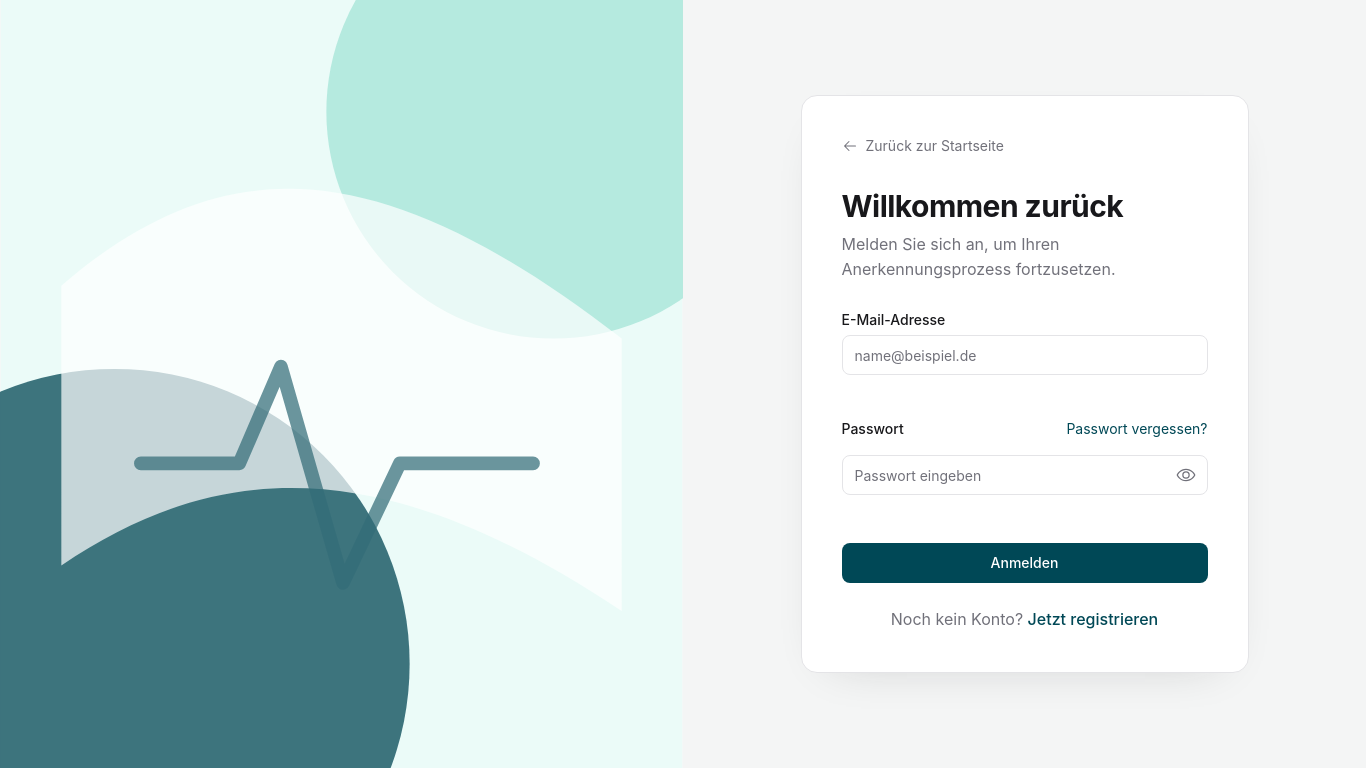
it: login shows formatted failures and default public links
Type "ada@example.com" into the field with test id "login-email-input" at [1024, 355], box [842,335,1208,375]
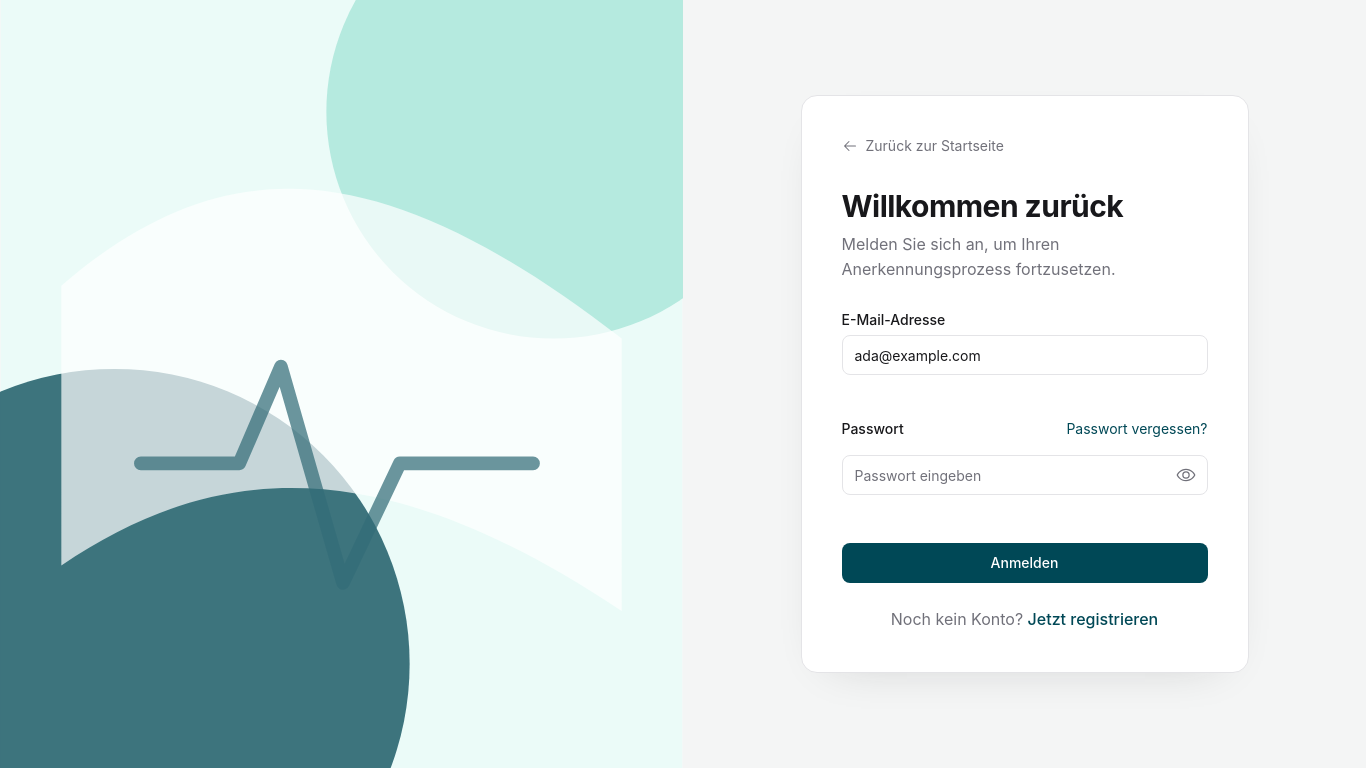
Type "secret" into the password field with test id "login-password-input" at [1024, 475], box [842,455,1208,495]
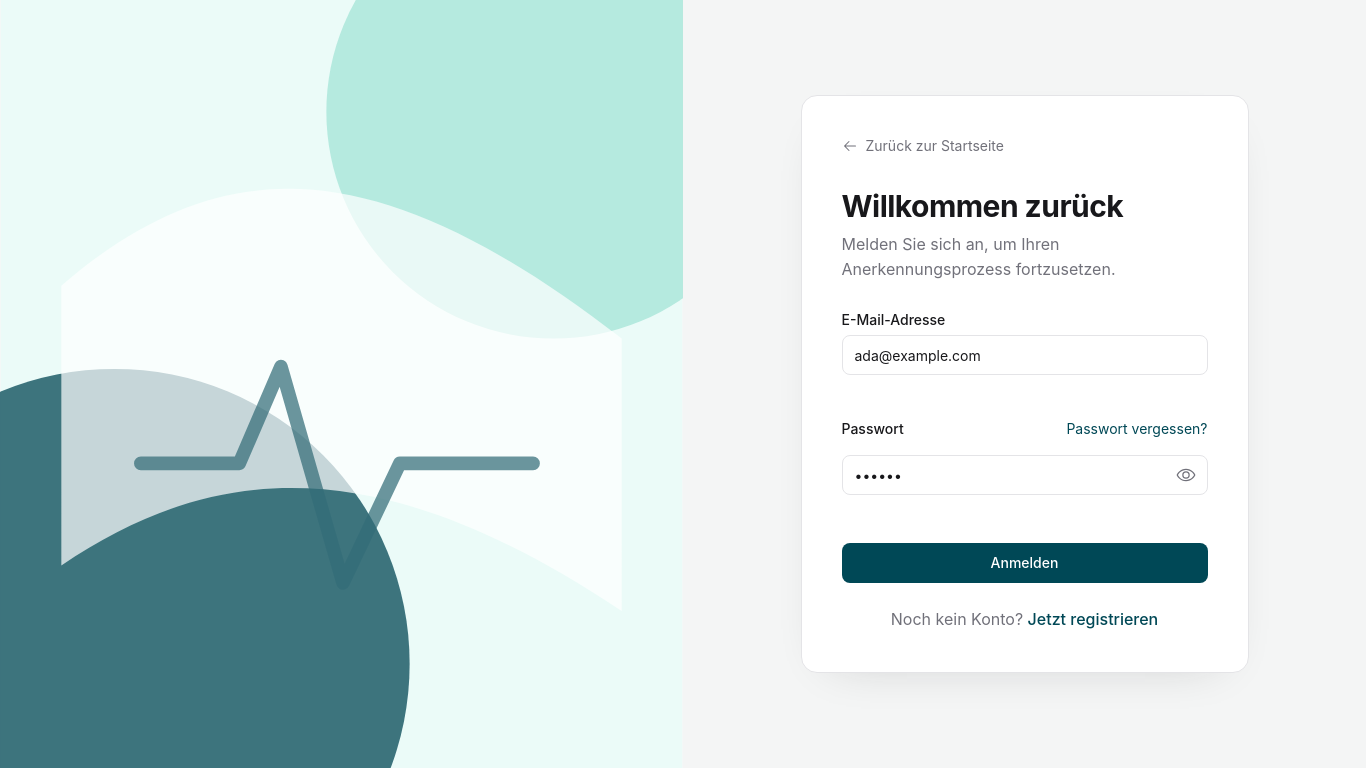
Submit the form with test id "login-submit-btn", box [842,313,1208,583]
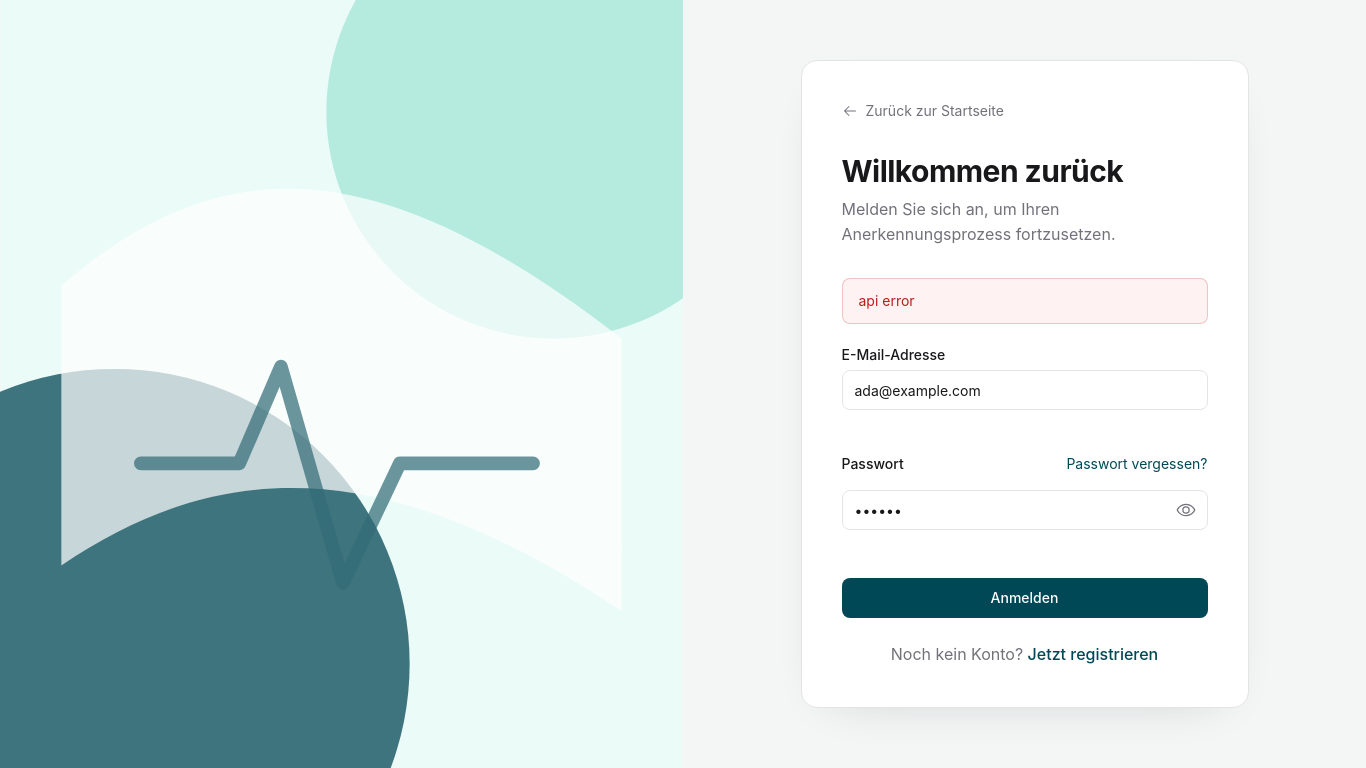
Expected: the button with test id "login-submit-btn" is enabled, [842,578,1208,618]
Result: the text with test id "login-error" reads "api error" at [858,292,915,309]
